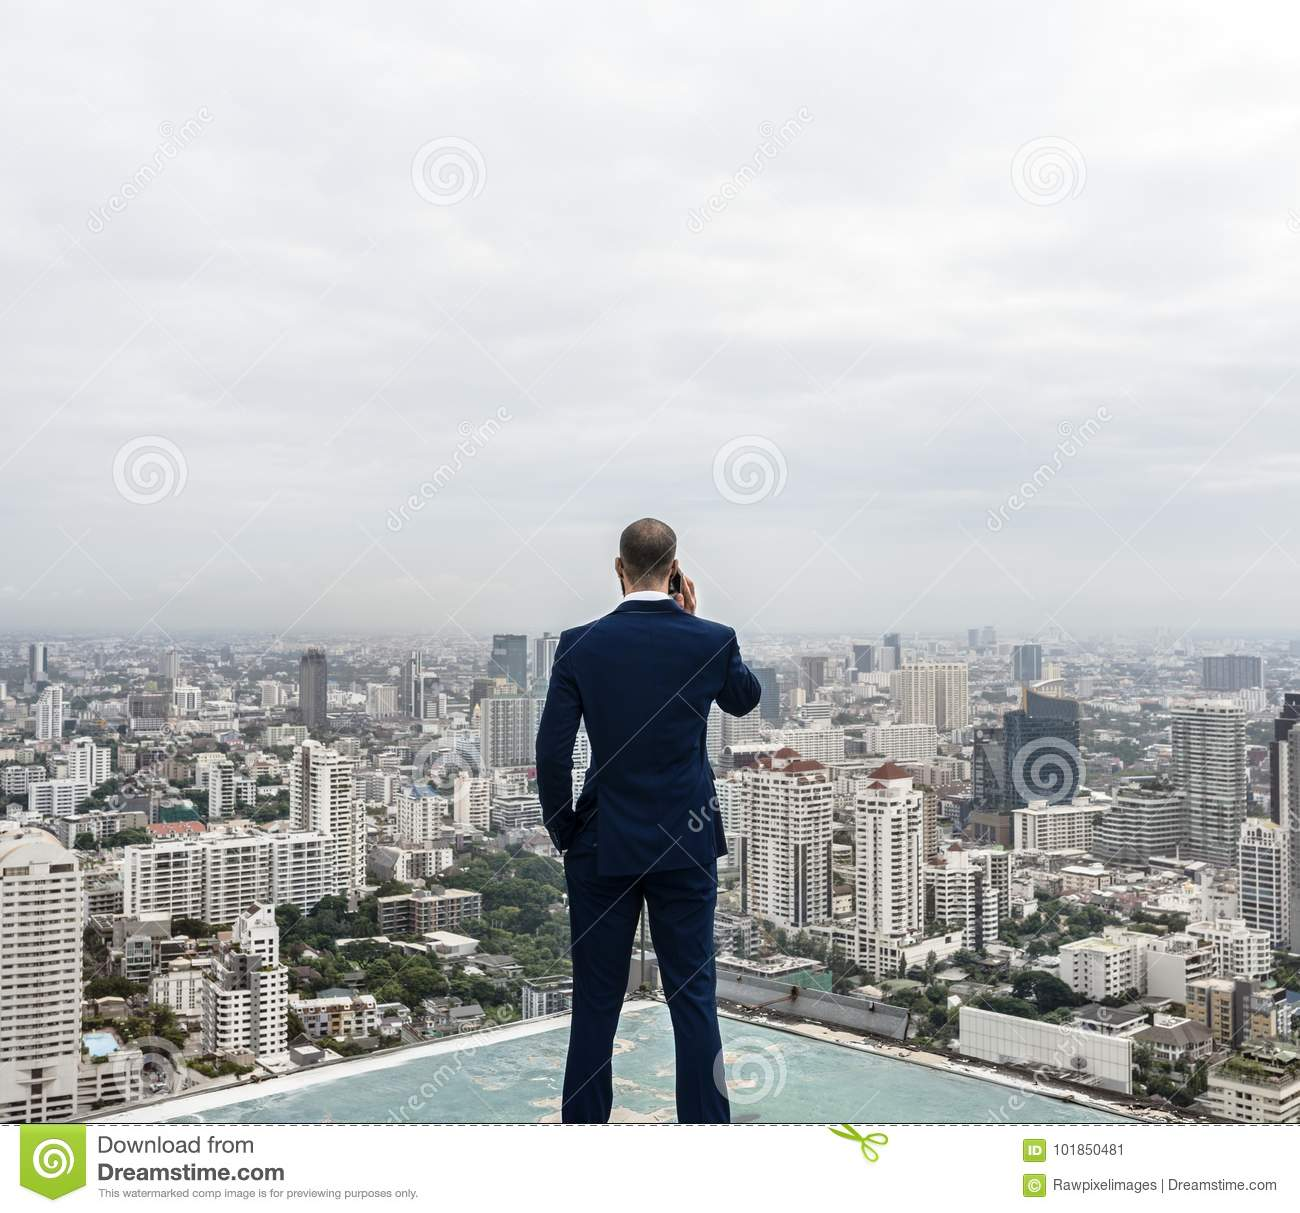phone: (671, 565, 685, 600)
